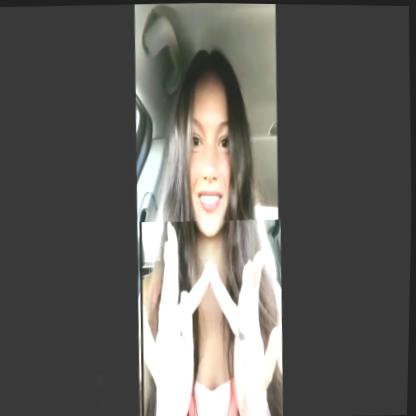Internet: (137, 217, 288, 416)
